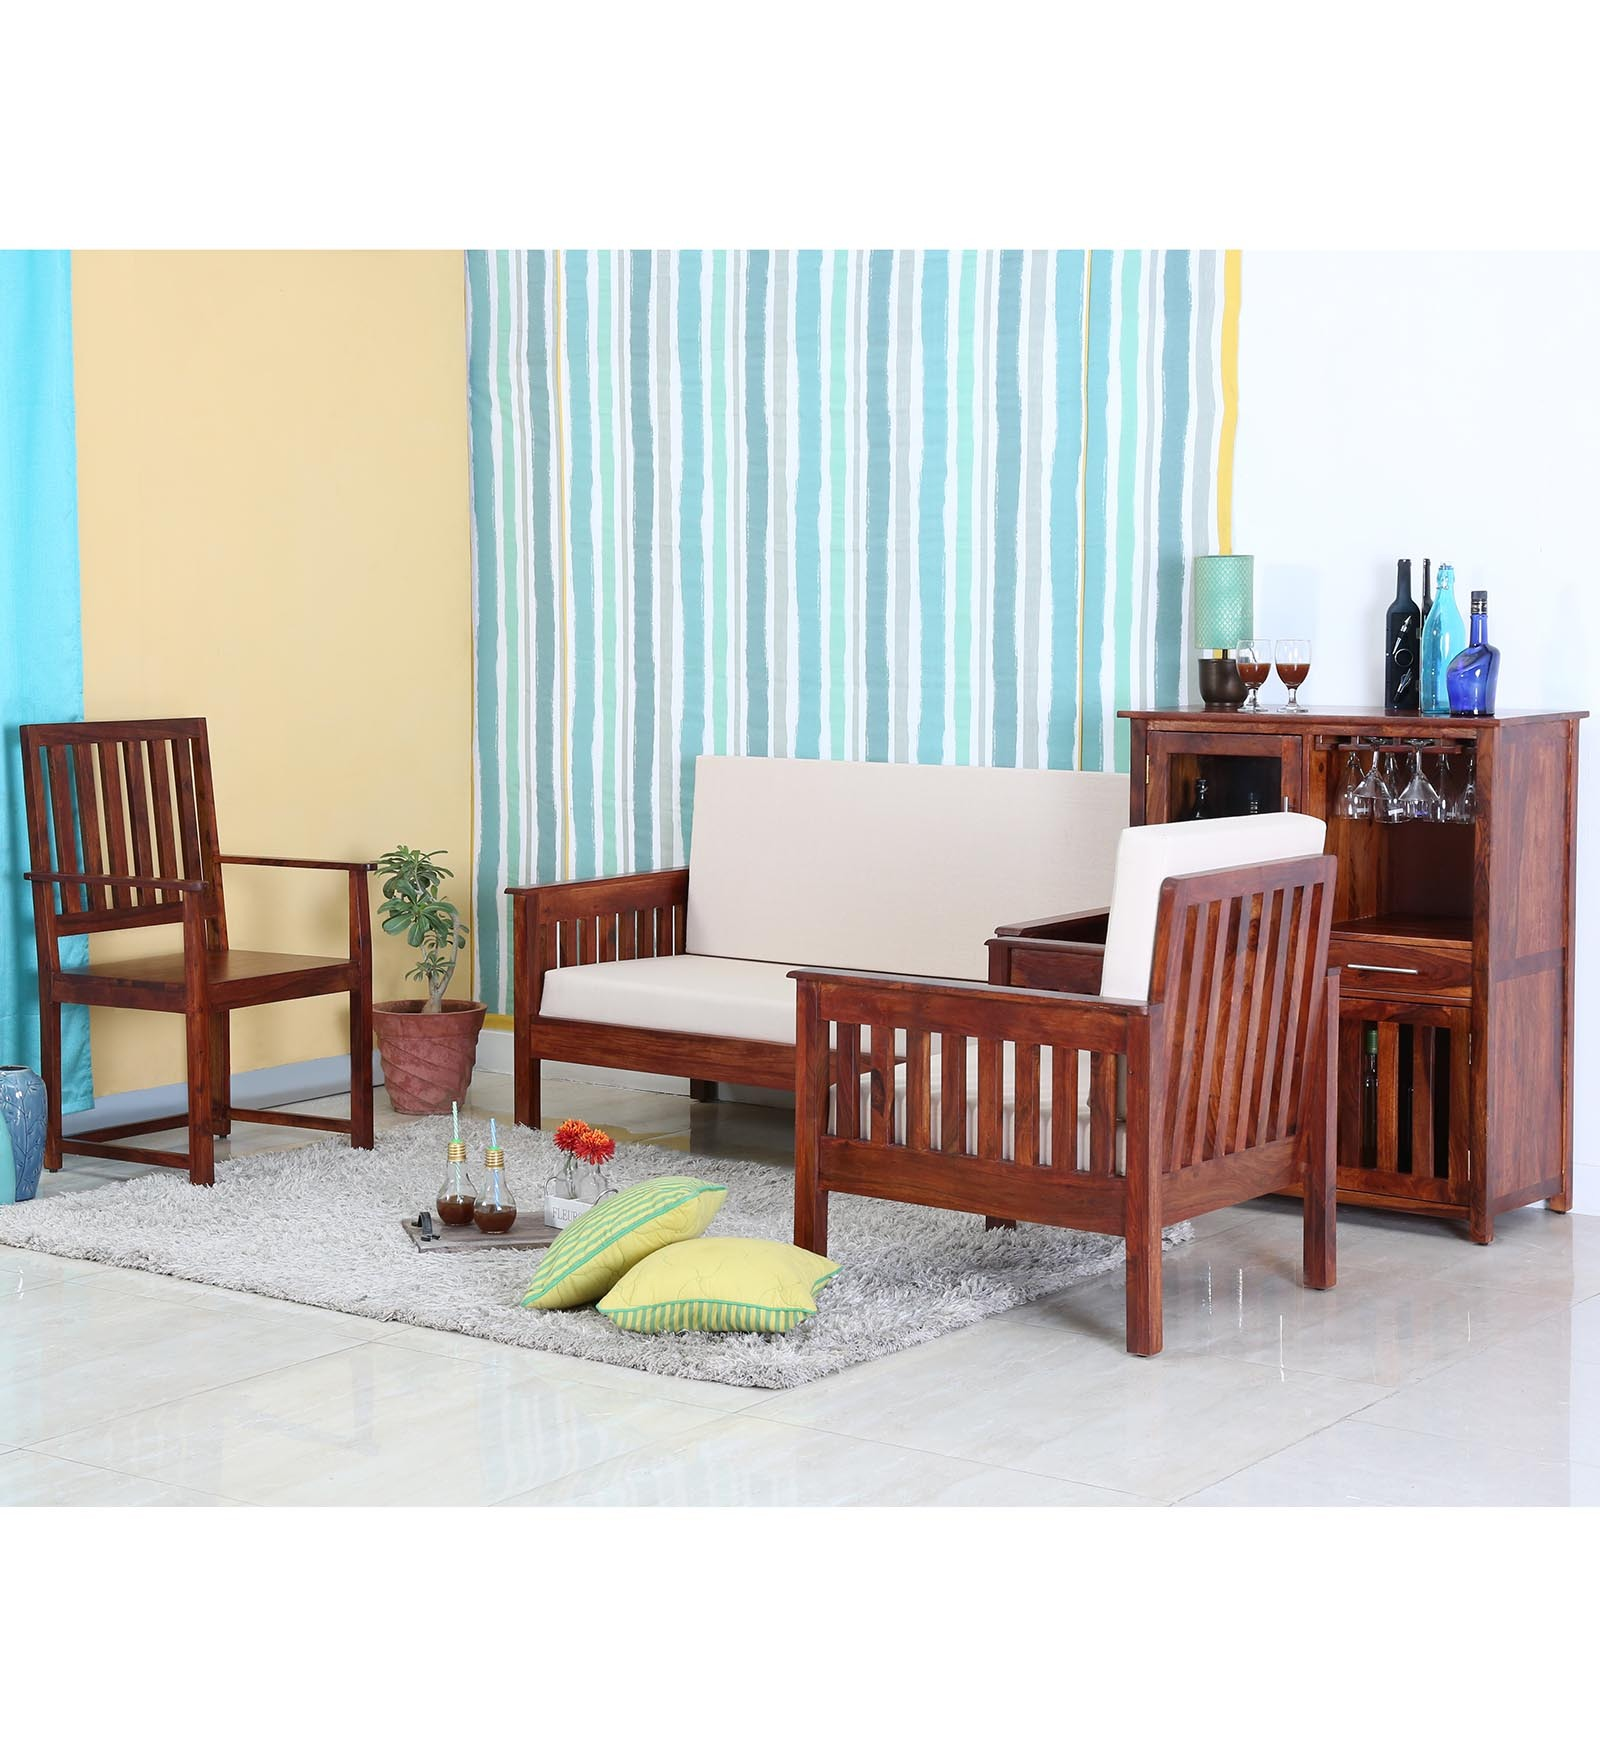Abbey Arm Chair in Honey Oak Finish by Woodsworth: (6, 704, 403, 1196)
